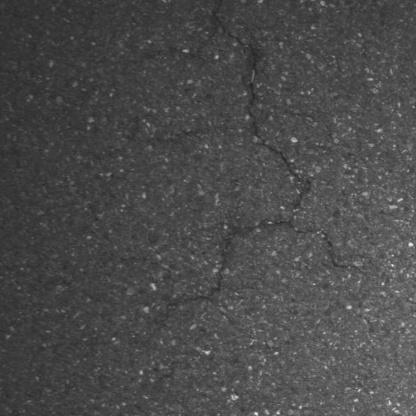Cracks: (160, 0, 367, 327)
